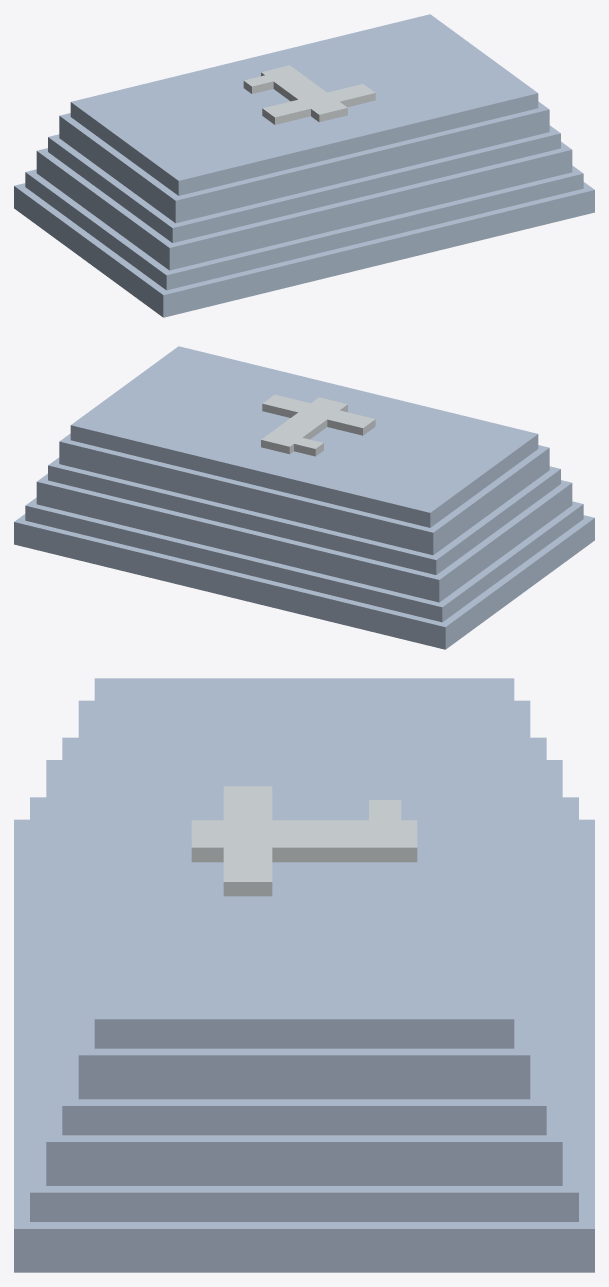
File: mithril_ingot.glb
The picture shows the model from 3 angles, top to bottom: view 1: azimuth 30°, elevation 25°; view 2: azimuth 150°, elevation 25°; view 3: azimuth 270°, elevation 25°; orthographic projection. The views are drawn at different scales.
Parts seen in each view (by area): view 1: mithril_ingot:compound; view 2: mithril_ingot:compound; view 3: mithril_ingot:compound.
Part boxes in pixels (<box>): mithril_ingot:compound: <box>14,14,594,317</box>; mithril_ingot:compound: <box>14,346,594,649</box>; mithril_ingot:compound: <box>14,678,594,1272</box>.
Size of the model in its own units: 0.12 by 0.032 by 0.072.
